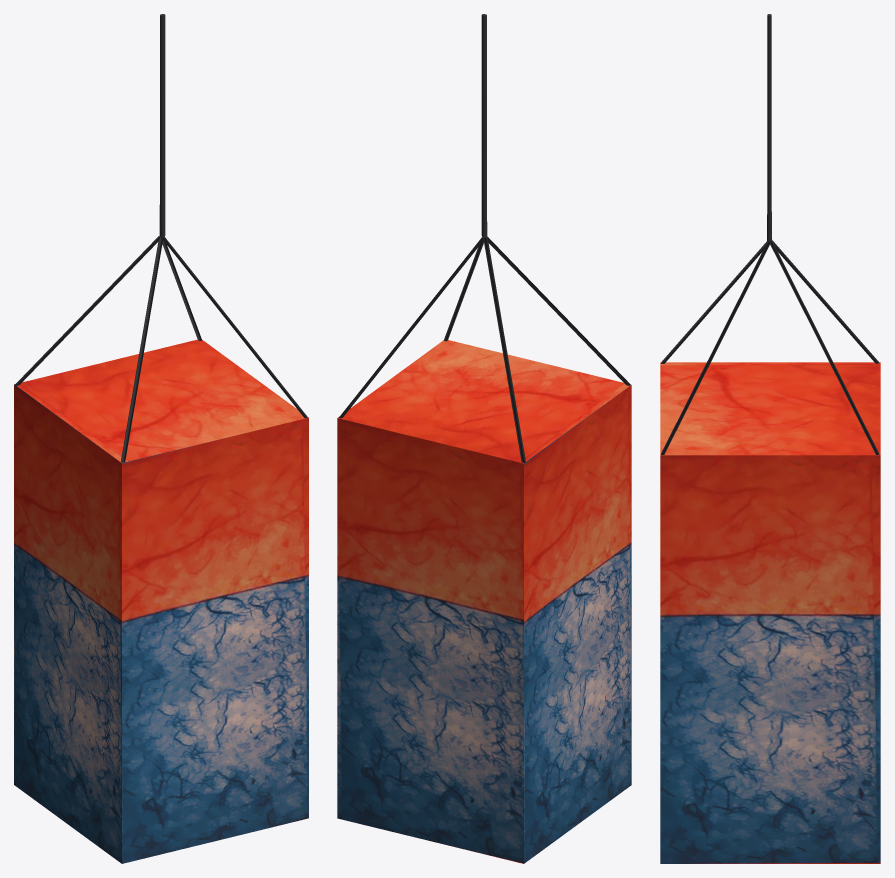
The model's file is 청사초롱.FBX.
The picture shows the model from 3 angles, left to right: view 1: azimuth 30°, elevation 25°; view 2: azimuth 150°, elevation 25°; view 3: azimuth 270°, elevation 25°; orthographic projection. The views are drawn at different scales.
Parts seen in each view (by area): view 1: 청사초롱; view 2: 청사초롱; view 3: 청사초롱.
Boxes of the visible parts, <box> form: 청사초롱: <box>14,14,308,863</box>; 청사초롱: <box>337,14,631,863</box>; 청사초롱: <box>660,14,880,863</box>.
Bounding box in the file's own units: 11.36 × 45.72 × 11.36.
